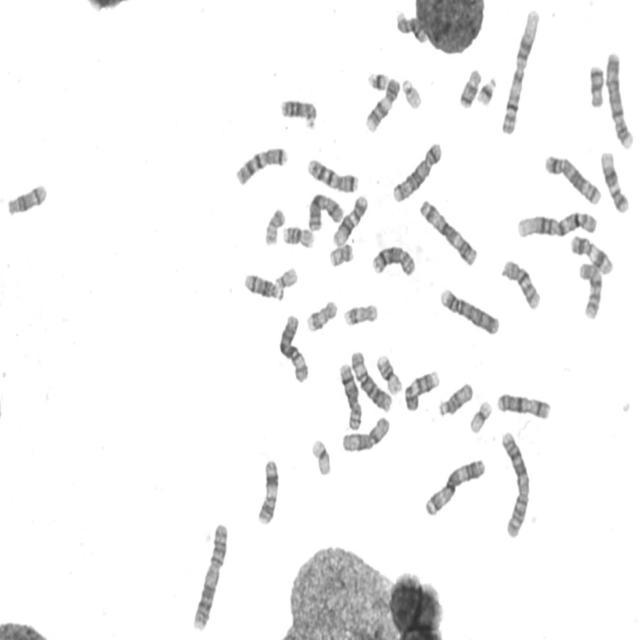A1: (498, 4, 542, 136), (514, 208, 598, 240)
A2: (190, 519, 229, 633), (498, 426, 532, 540)
A3: (417, 195, 479, 268), (422, 454, 487, 518)
B4: (603, 48, 635, 151), (438, 285, 500, 337)
B5: (391, 138, 444, 204), (542, 151, 602, 207)
C10: (500, 257, 542, 312), (577, 258, 604, 322)
C11: (568, 232, 616, 276), (255, 456, 280, 526)
C12: (330, 191, 370, 248), (598, 148, 631, 215)
C6: (348, 347, 394, 414), (276, 311, 310, 384)
C7: (233, 143, 289, 187), (304, 155, 360, 194)
C8: (337, 359, 363, 432), (370, 242, 417, 278)
C9: (362, 74, 402, 134), (402, 367, 441, 412)
D13: (390, 5, 430, 45), (278, 95, 318, 130)
D14: (5, 179, 48, 218), (242, 270, 285, 302)
D15: (338, 413, 392, 452), (436, 379, 474, 418)
E16: (374, 351, 404, 396), (280, 222, 316, 250)
E17: (304, 296, 339, 334), (342, 301, 379, 328)
E18: (457, 65, 482, 110), (587, 62, 606, 109)
F19: (308, 435, 332, 478), (468, 397, 493, 435)
F20: (262, 205, 287, 247), (326, 240, 354, 268)
G21: (474, 72, 498, 108), (364, 68, 390, 91)
G22: (399, 74, 424, 111), (273, 264, 299, 291)
X: (494, 389, 552, 422), (306, 190, 345, 232)
